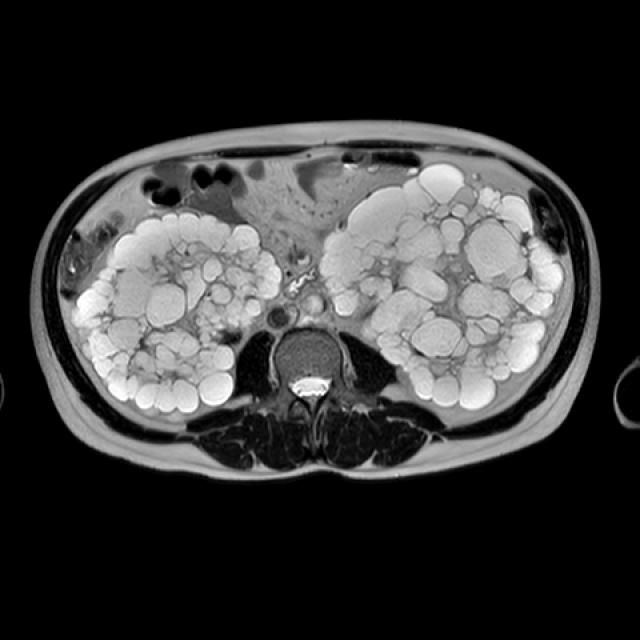sag: (71, 207, 283, 423)
sol: (318, 161, 566, 409)
